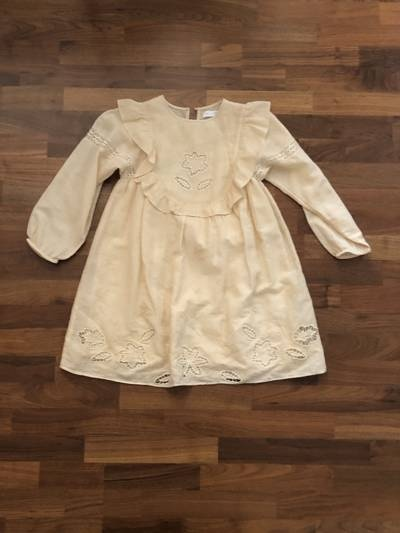Dress: (10, 80, 364, 418)
